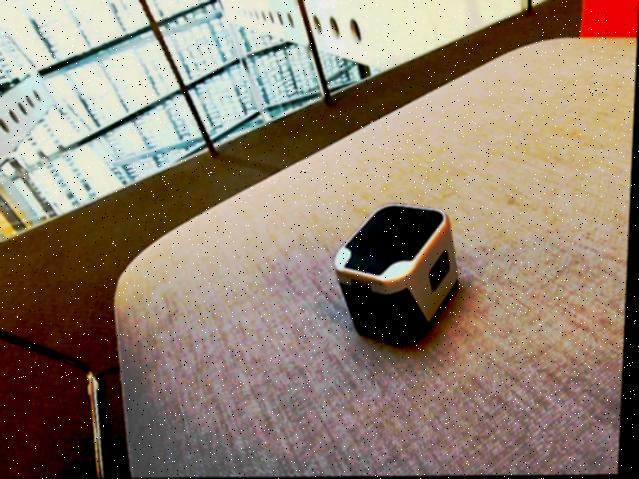adapter: (333, 202, 464, 347)
